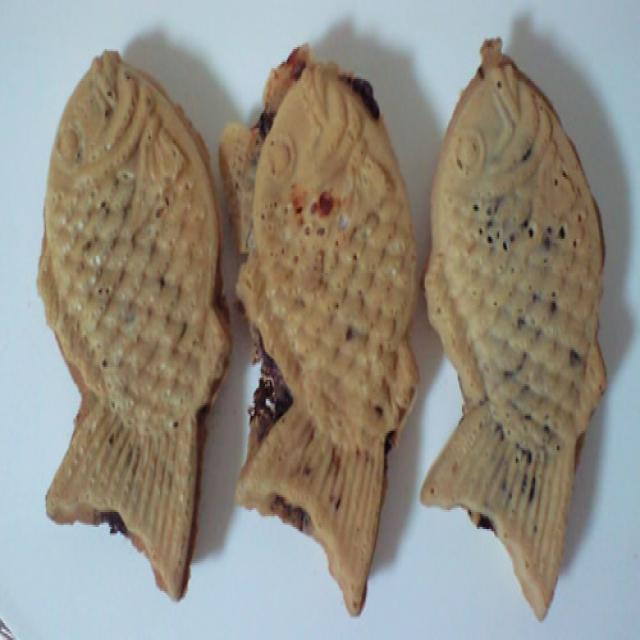熟制海鲜: (29, 32, 612, 619)
